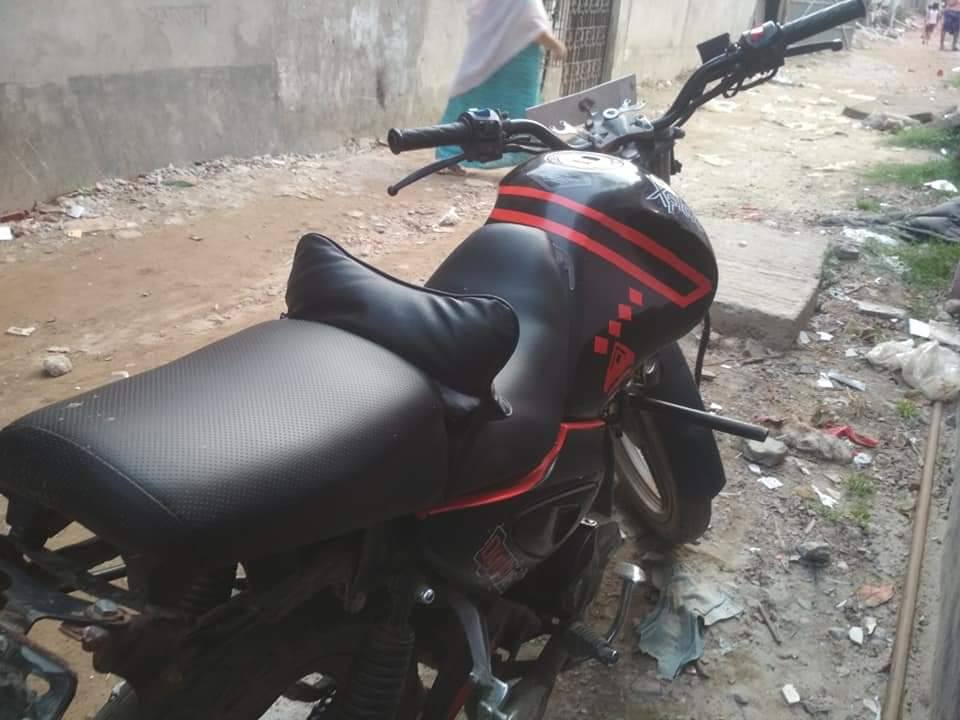bike: (1, 1, 862, 717)
